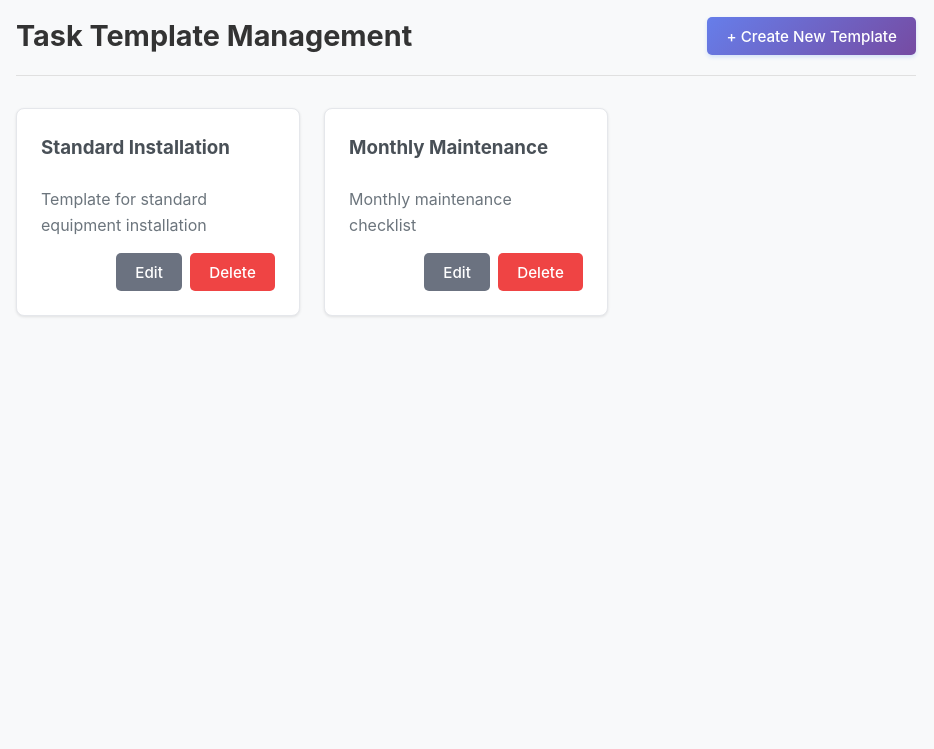
TaskAdministration Component - REQ-202.3 › Template Management › handles template creation
The width and height of the screenshot is (934, 749).
Click the button "+ Create New Template": {"x": 812, "y": 36} 707,17 -> 916,55
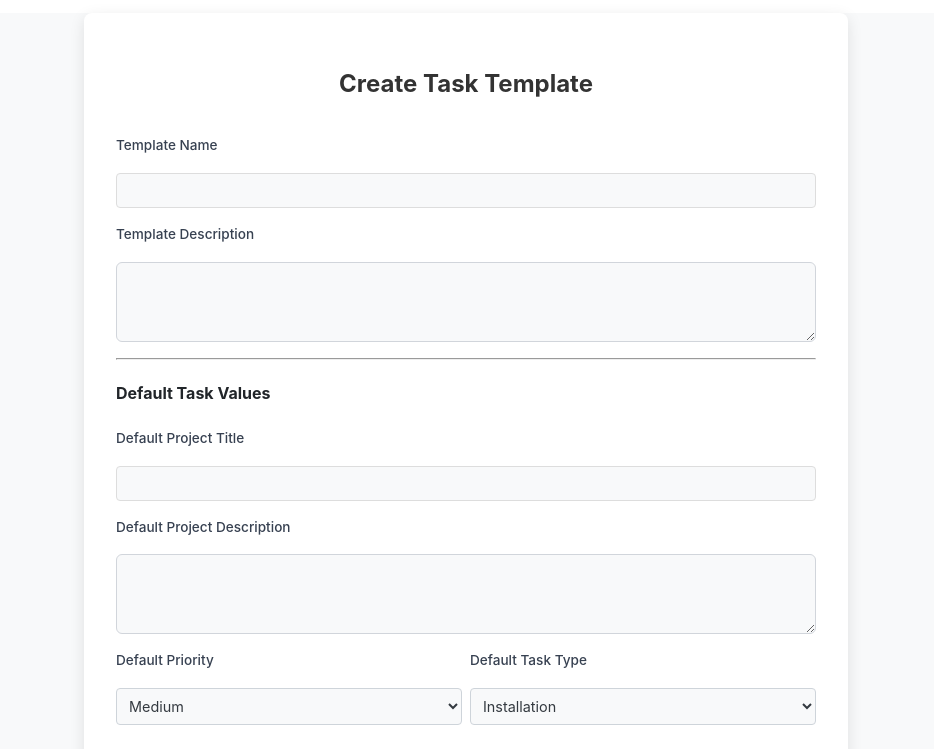
Expected: the heading "Create Task Template" is shown, 339,69 -> 593,98
